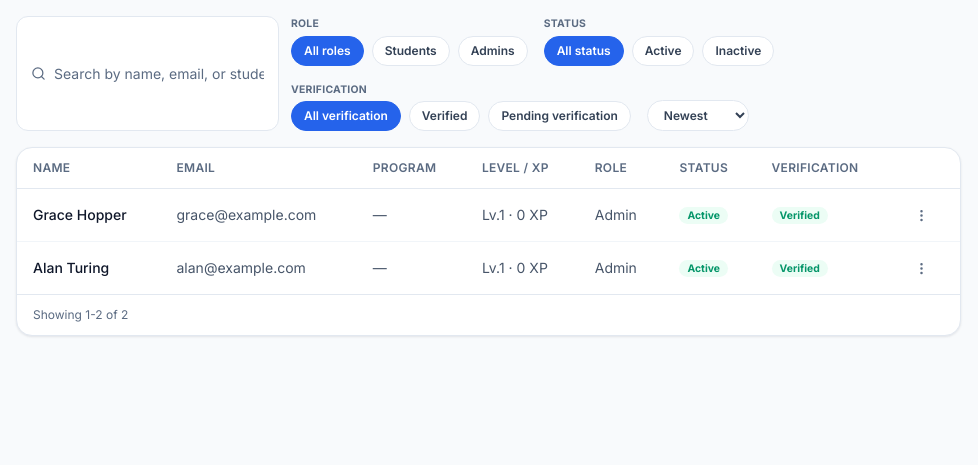
Scenario: AdminUsersPage — deleting an admin account › hides Delete and Deactivate on your own row, but shows them on other admins
expect the text "Grace Hopper" is shown: met, box [33,206,127,223]
Click the button named "Actions for Grace Hopper". click: x=921, y=215
box: [907,201,935,229]
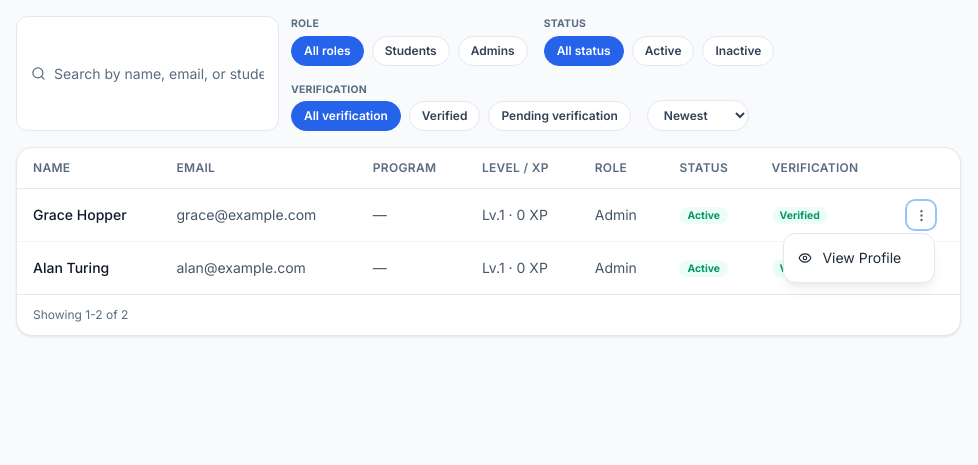
expect the menu item "Delete" is not shown: met
expect the menu item "Deactivate" is not shown: met
Click the button named "Actions for Grace Hopper". click: x=921, y=215
box: [907,201,935,229]
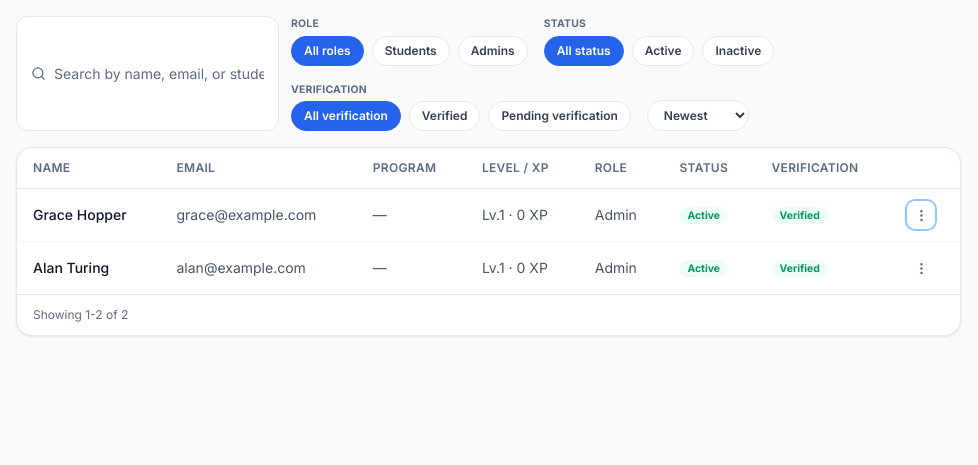
Click the button named "Actions for Alan Turing". click: x=921, y=268
box: [907,254,935,282]
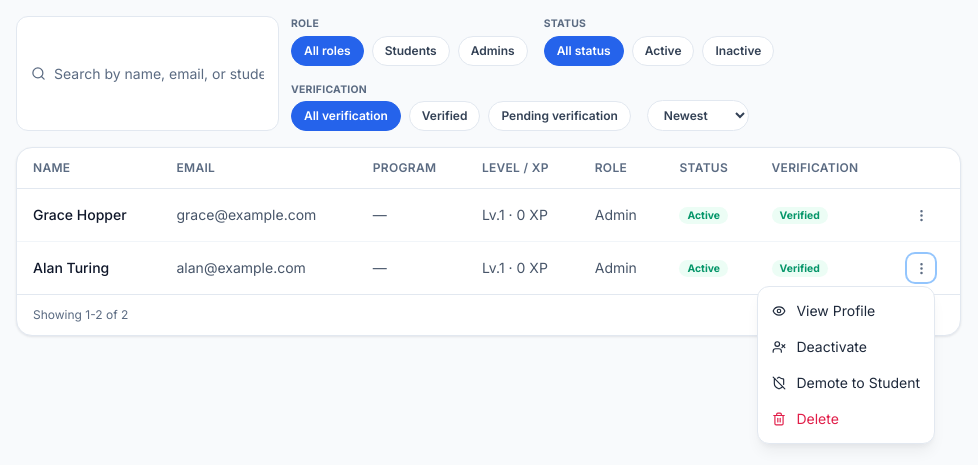
expect the menu item "Delete" is shown: met, box [758,401,934,437]
expect the menu item "Deactivate" is shown: met, box [758,329,934,365]
